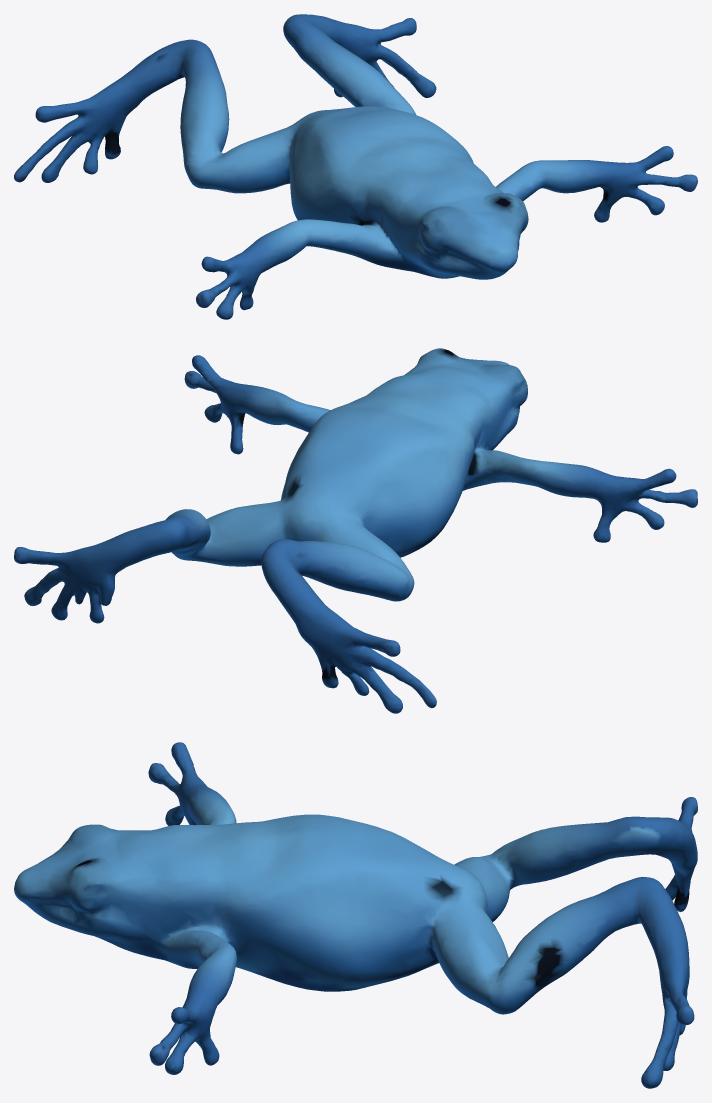
The model's file is dartfrog-sky_clean.swim.glb.
3 views of the same model, one above another, from view 1: azimuth 30°, elevation 25°; view 2: azimuth 150°, elevation 25°; view 3: azimuth 270°, elevation 25° (orthographic). The views are drawn at different scales.
Visible parts, largest first — view 1: dartfrog:sky_clean.swim; view 2: dartfrog:sky_clean.swim; view 3: dartfrog:sky_clean.swim.
Part boxes in pixels (left/top/right/bottom): dartfrog:sky_clean.swim: left=14, top=14, right=697, bottom=319; dartfrog:sky_clean.swim: left=14, top=348, right=697, bottom=713; dartfrog:sky_clean.swim: left=14, top=742, right=697, bottom=1088.
Size of the model in its own units: 0.0612 by 0.0153 by 0.0616.
